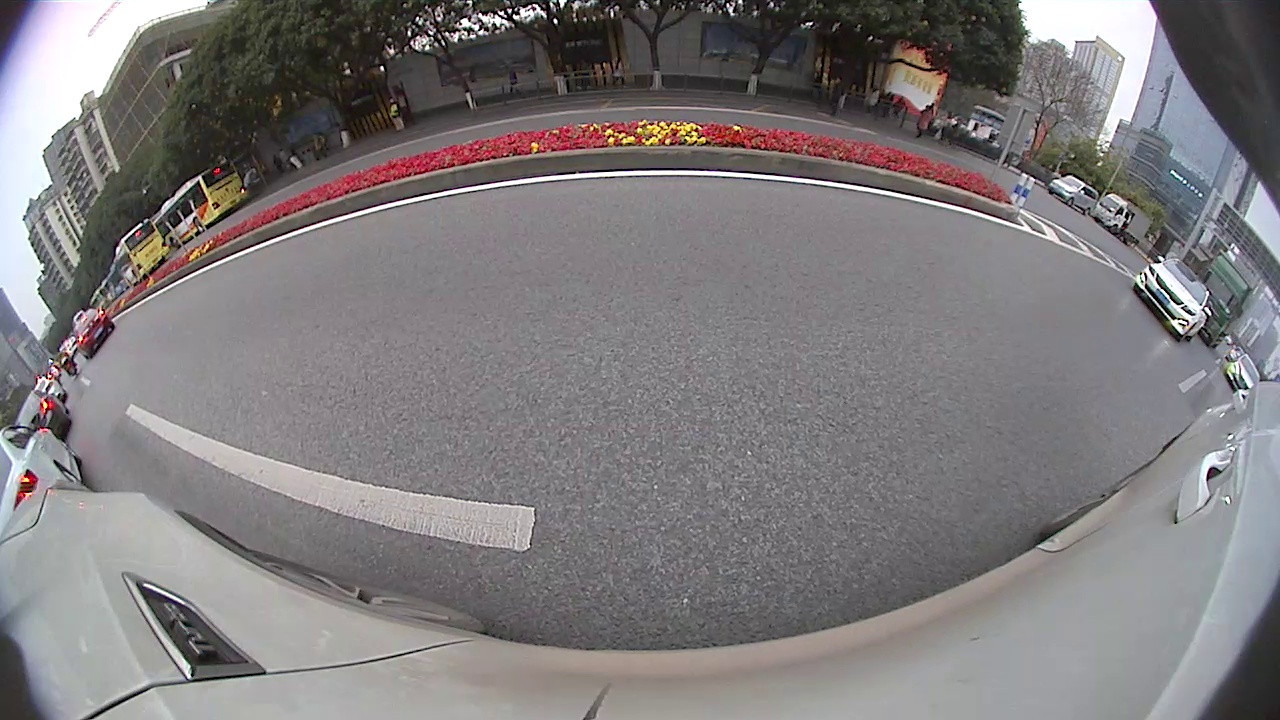bus: (151, 160, 250, 250), (112, 218, 173, 292)
car: (1, 427, 85, 522), (1132, 257, 1212, 344), (12, 388, 74, 440), (71, 306, 117, 361), (1048, 174, 1100, 218), (1224, 353, 1263, 395), (30, 376, 68, 405)
rider: (53, 348, 81, 380)
truck: (1199, 247, 1256, 351), (1091, 192, 1155, 251)
